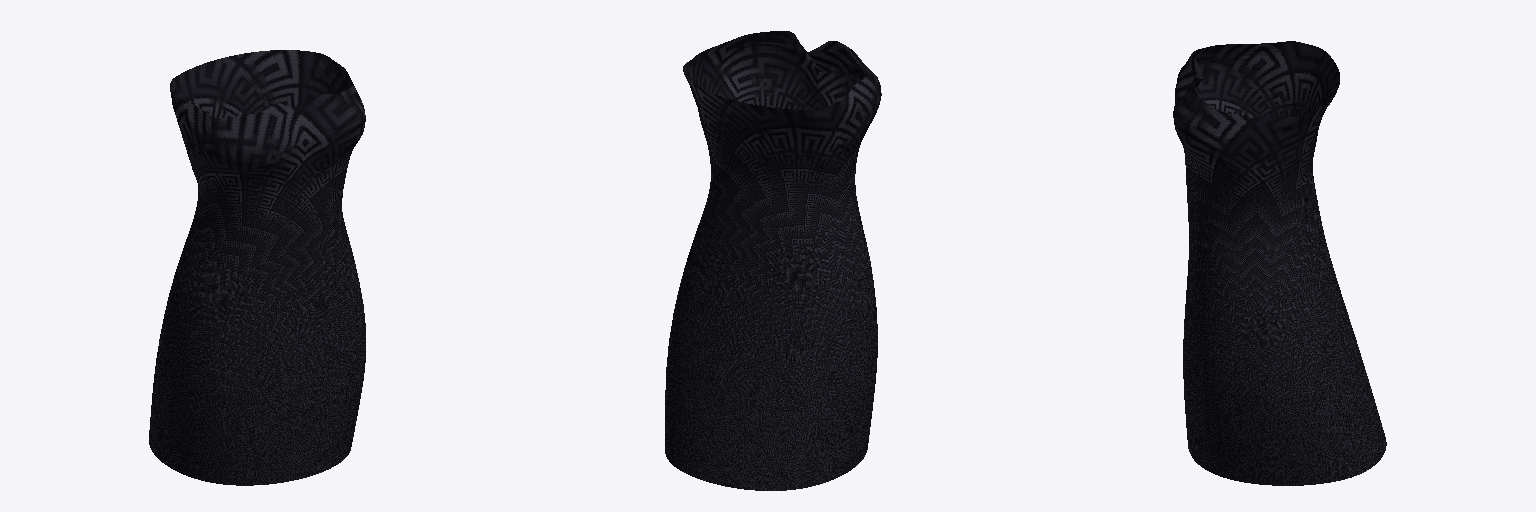
3 renders of one model, left to right at view 1: azimuth 30°, elevation 25°; view 2: azimuth 150°, elevation 25°; view 3: azimuth 270°, elevation 25°, orthographic.
Parts seen in each view (by area): view 1: Dress_Form.005; view 2: Dress_Form.005; view 3: Dress_Form.005.
Boxes of the visible parts, box(x1,y1,x2,y2) form: Dress_Form.005: box(149, 50, 365, 485); Dress_Form.005: box(665, 31, 881, 490); Dress_Form.005: box(1173, 41, 1386, 485).
Size of the model in its own units: 0.2536 by 0.4956 by 0.2535.
Materials: 1 (1 with a texture image).